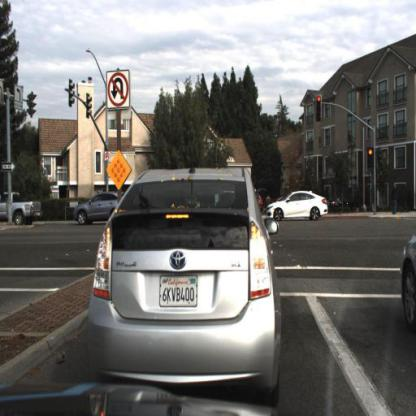car: (91, 169, 283, 389), (266, 188, 331, 221), (72, 191, 124, 225), (400, 230, 416, 337), (1, 193, 44, 226), (322, 185, 349, 218)
pedestrian: (390, 177, 403, 223), (391, 182, 401, 216)
trafficLight-Red: (365, 145, 377, 173), (314, 94, 324, 127)
